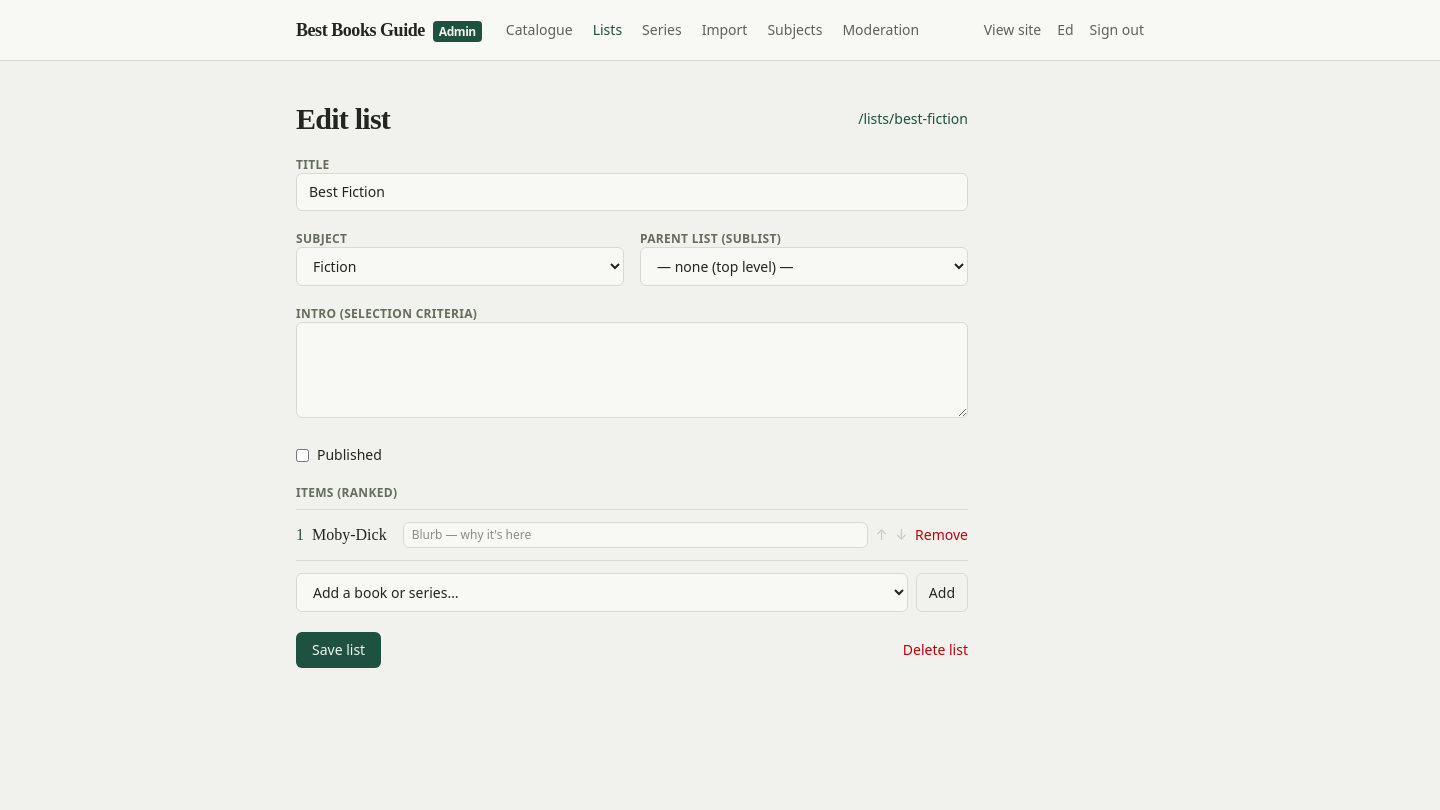
Test: ListBuilderPage › loads a list, adds a book item, and saves items + details
Expected: the text "Moby-Dick" is shown, [312,523,387,547]
// Add Frankenstein as a second item.
Select "Frankenstein" in the dropdown named "add item" at coordinates (602, 592), box [296,573,908,612]
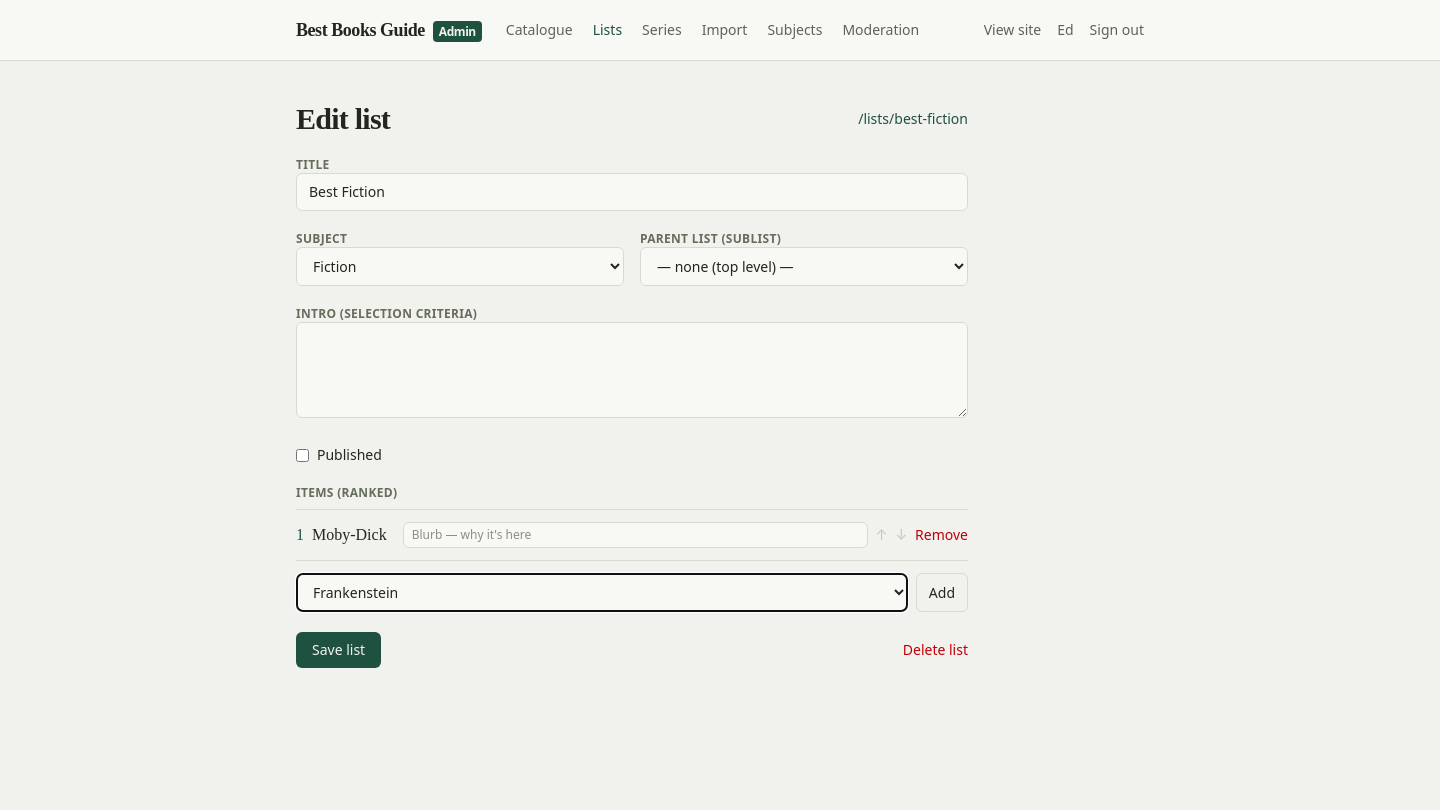
Click the button "Add".
click(942, 592)  # box [916,573,968,612]
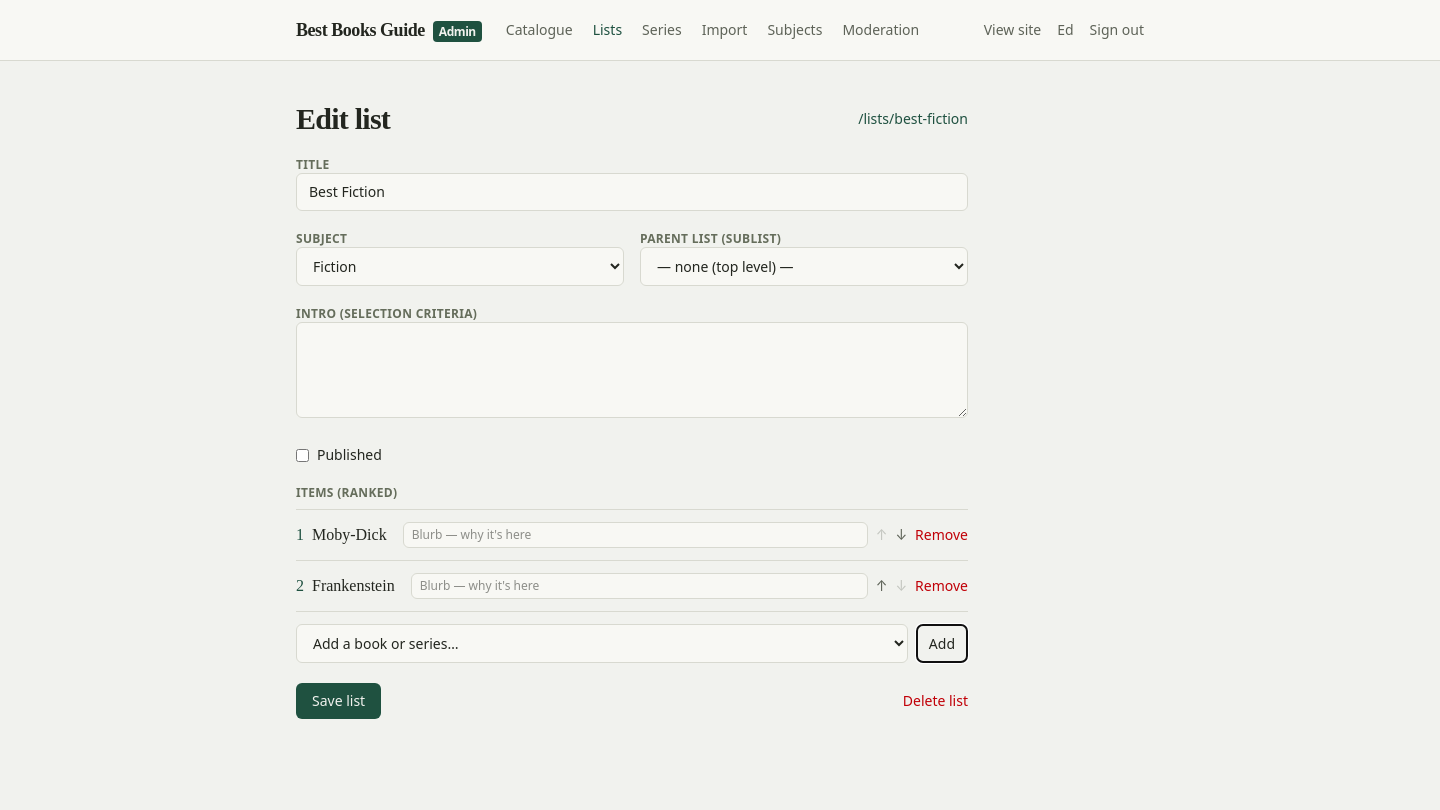
Expected: the text "Frankenstein" is shown, [312,574,395,598]
Click the button "Save list".
click(339, 701)  # box [296,683,381,719]
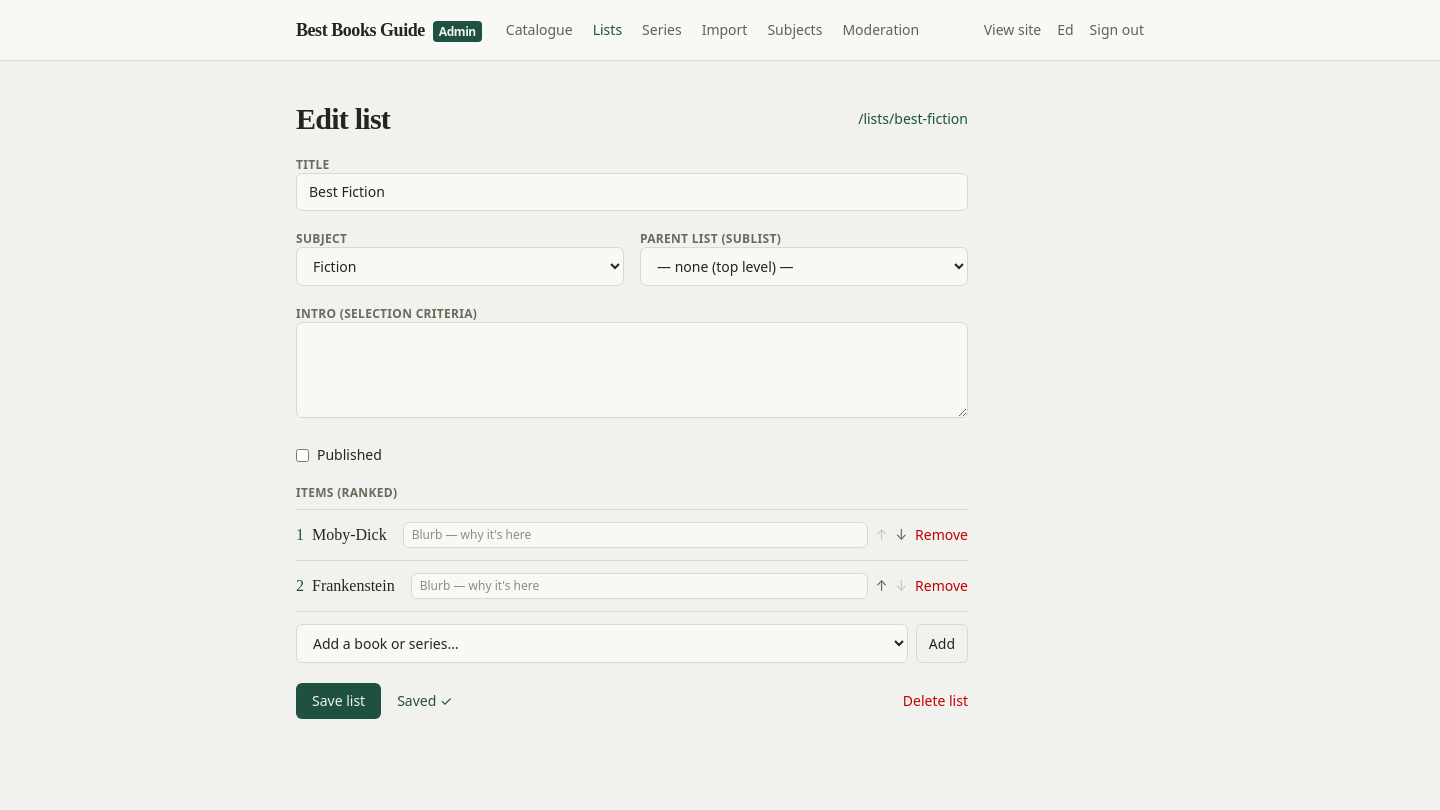
Expected: the text "Saved ✓" is shown, [397,691,452,711]
